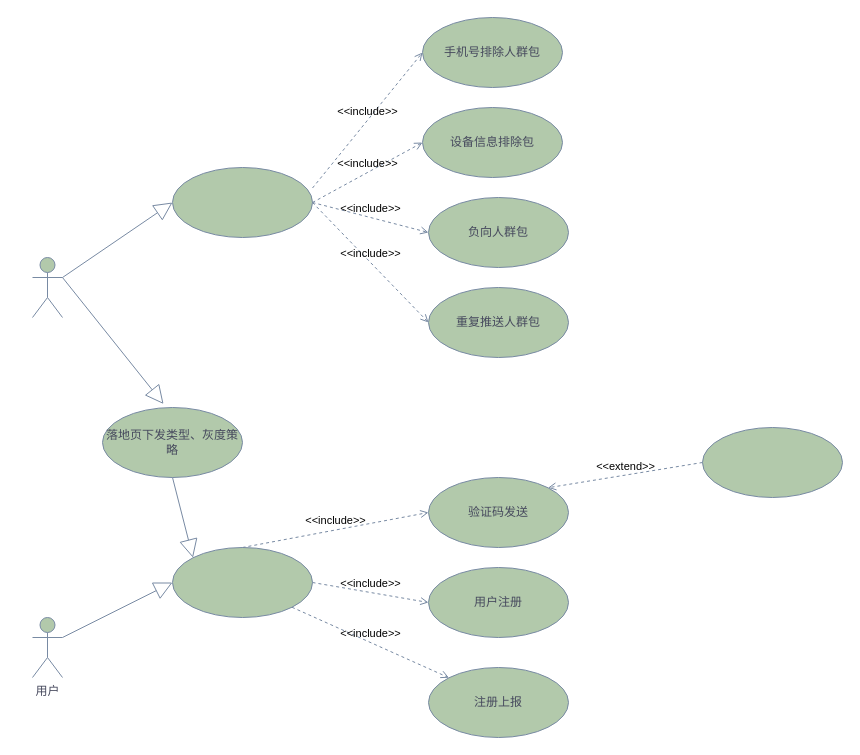
This 860x755 diagram has some shape labels left out. The box of each missing label's shape, as (x1, y1, x2, y2) in pixels:
不同形式验证码下发、频率校验: (702, 426, 842, 498)
人群包上传: (172, 166, 312, 238)
信息流系统: (32, 256, 62, 318)
落地页: (172, 546, 312, 618)
